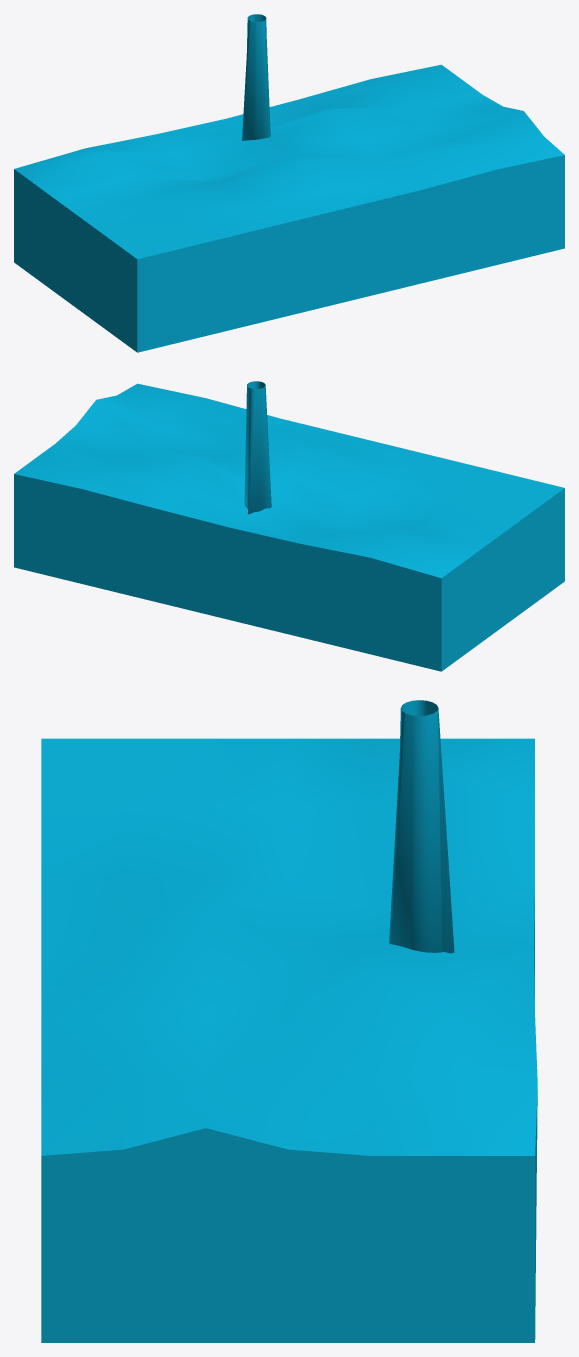
File: abigobaldoEFFECTS.fbx
3 views of the same model, one above another, from view 1: azimuth 30°, elevation 25°; view 2: azimuth 150°, elevation 25°; view 3: azimuth 270°, elevation 25° (orthographic). The views are drawn at different scales.
Parts seen in each view (by area): view 1: FX_Water_SinkFill, FX_Water_FaucetStream; view 2: FX_Water_SinkFill, FX_Water_FaucetStream; view 3: FX_Water_SinkFill, FX_Water_FaucetStream.
Part boxes in pixels (<box>): FX_Water_SinkFill: <box>14,64,564,352</box>; FX_Water_FaucetStream: <box>242,14,270,140</box>; FX_Water_SinkFill: <box>14,383,564,671</box>; FX_Water_FaucetStream: <box>244,381,271,514</box>; FX_Water_SinkFill: <box>41,738,537,1342</box>; FX_Water_FaucetStream: <box>389,700,454,953</box>.
Size of the model in its own units: 239 by 114 by 120.
